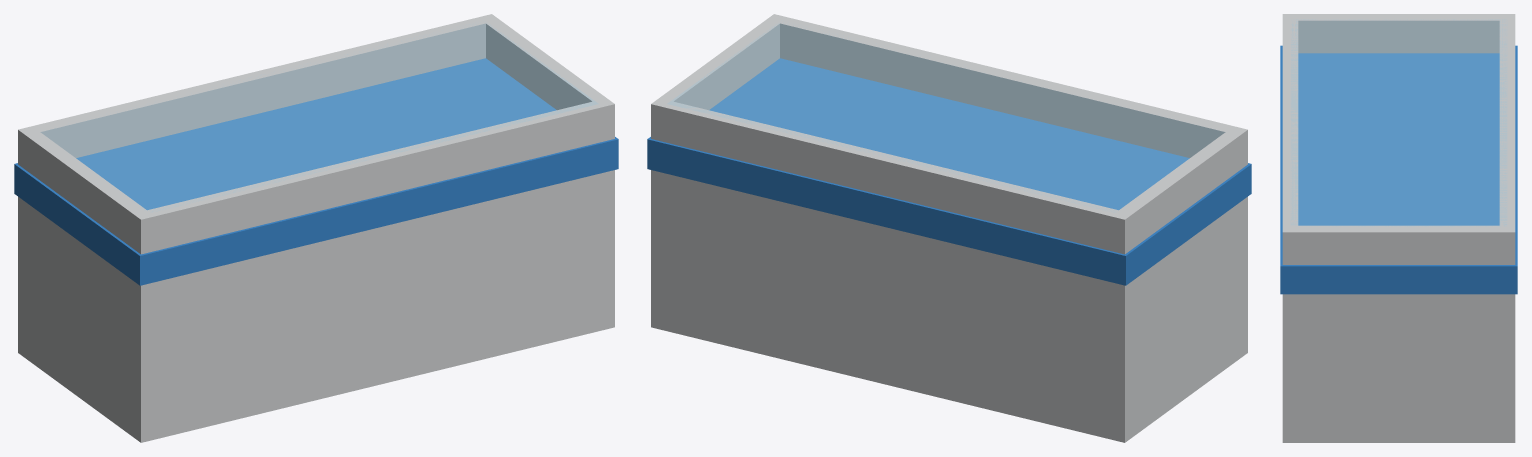
The model's file is chest_freezer.glb.
3 renders of one model, left to right at view 1: azimuth 30°, elevation 25°; view 2: azimuth 150°, elevation 25°; view 3: azimuth 270°, elevation 25°, orthographic. The views are drawn at different scales.
Parts seen in each view (by area): view 1: wall_freezer_white, band_freezer_band, glass_freezer_glass, bottom_freezer_white; view 2: wall_freezer_white, band_freezer_band, glass_freezer_glass, bottom_freezer_white; view 3: wall_freezer_white, glass_freezer_glass, band_freezer_band, bottom_freezer_white.
Boxes of the visible parts, <box> form: wall_freezer_white: <box>18,14,614,442</box>; band_freezer_band: <box>14,58,618,285</box>; glass_freezer_glass: <box>41,23,597,211</box>; bottom_freezer_white: <box>18,302,614,442</box>; wall_freezer_white: <box>651,14,1247,442</box>; band_freezer_band: <box>647,58,1251,285</box>; glass_freezer_glass: <box>667,23,1224,212</box>; bottom_freezer_white: <box>651,302,1247,442</box>; wall_freezer_white: <box>1282,14,1515,442</box>; glass_freezer_glass: <box>1291,19,1506,226</box>; band_freezer_band: <box>1280,45,1517,294</box>; bottom_freezer_white: <box>1282,419,1515,442</box>.
Size of the model in its own units: 2.02 by 0.9 by 0.92.
